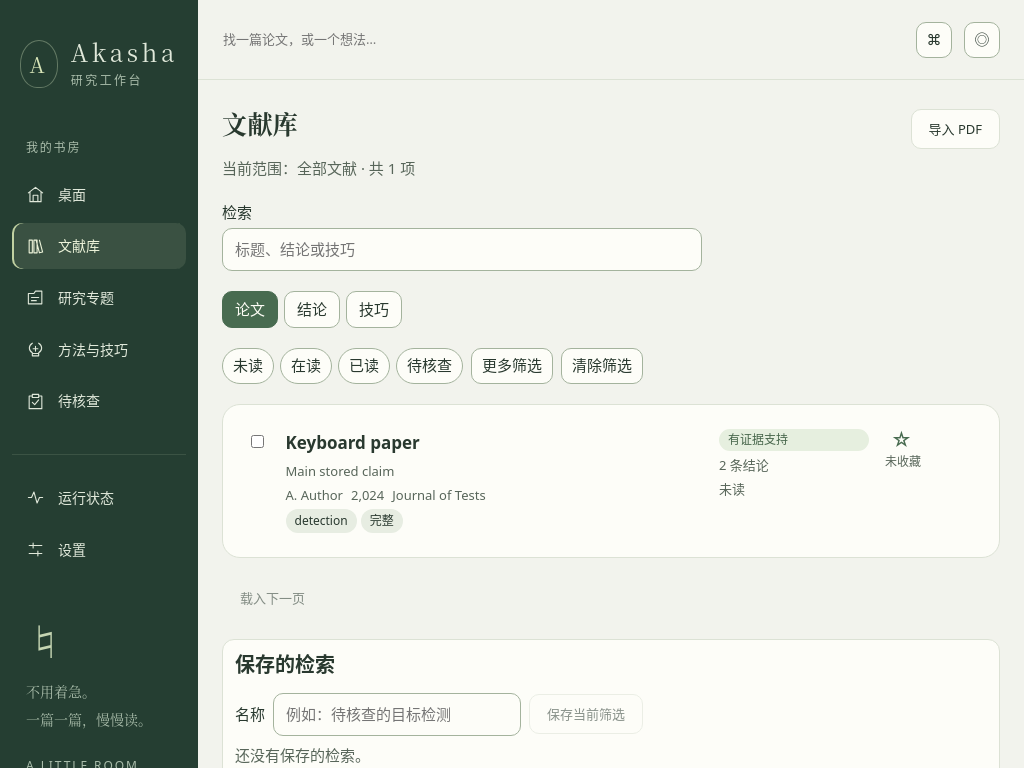
Test case: UX-054 responsive and keyboard readability › moves focus into a dialog and returns it on close
The batch tray only exists with a selection: select one row first.
What coordinates should you click on to do the following:
click the checkbox named "选择 Keyboard paper"
I would click on:
 (258, 441)
Its box is [251,434,264,448].
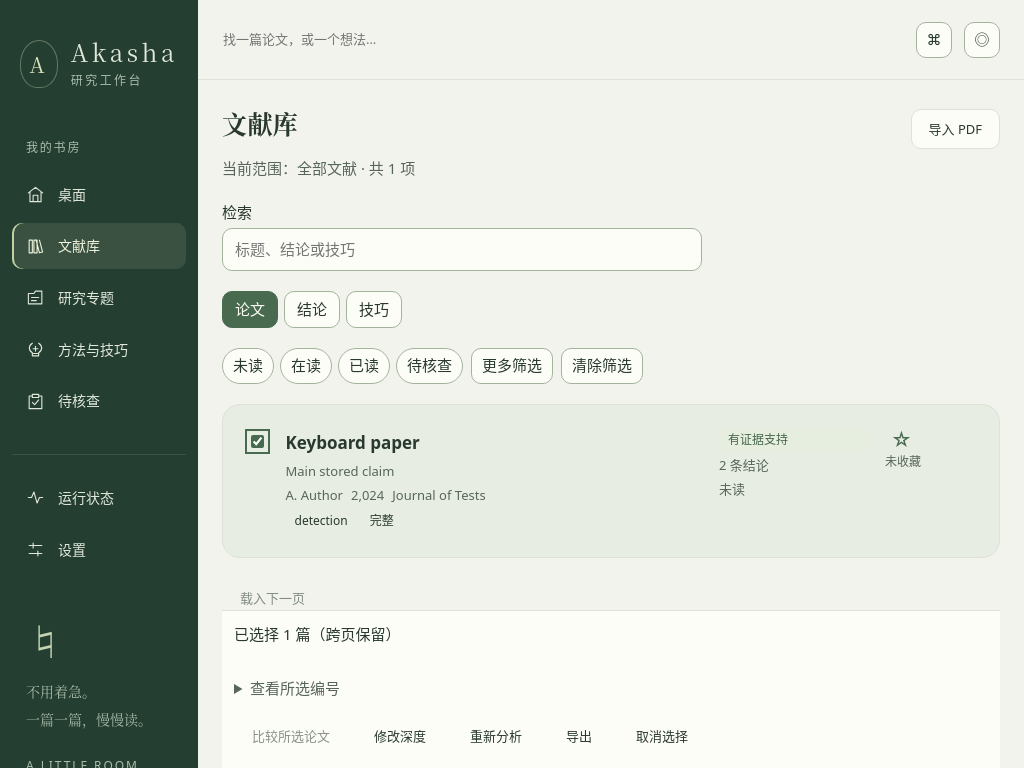
What coordinates should you click on to do the following:
click the button "修改深度"
I would click on:
 (400, 736)
Its box is [356,716,444,756].
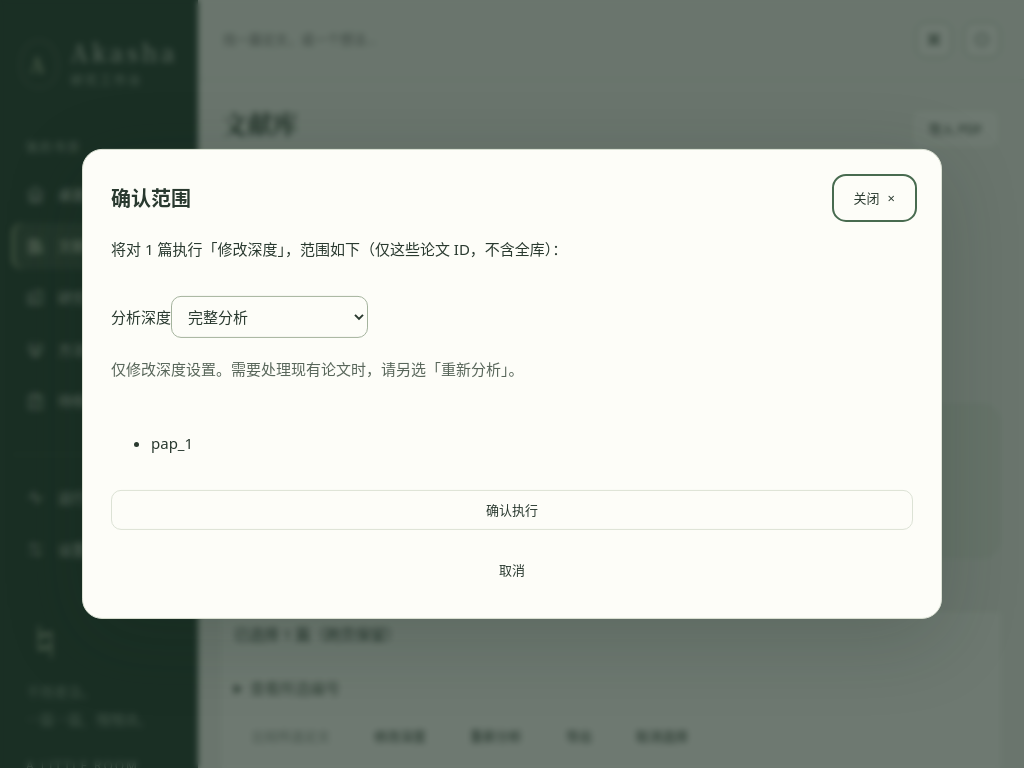
Now the dialog with test id "scope-preview" is shown, box [82,149,942,619]
What coordinates should you click on to do the following:
click the button "取消"
I would click on:
 (512, 570)
Its box is [111,550,913,590].
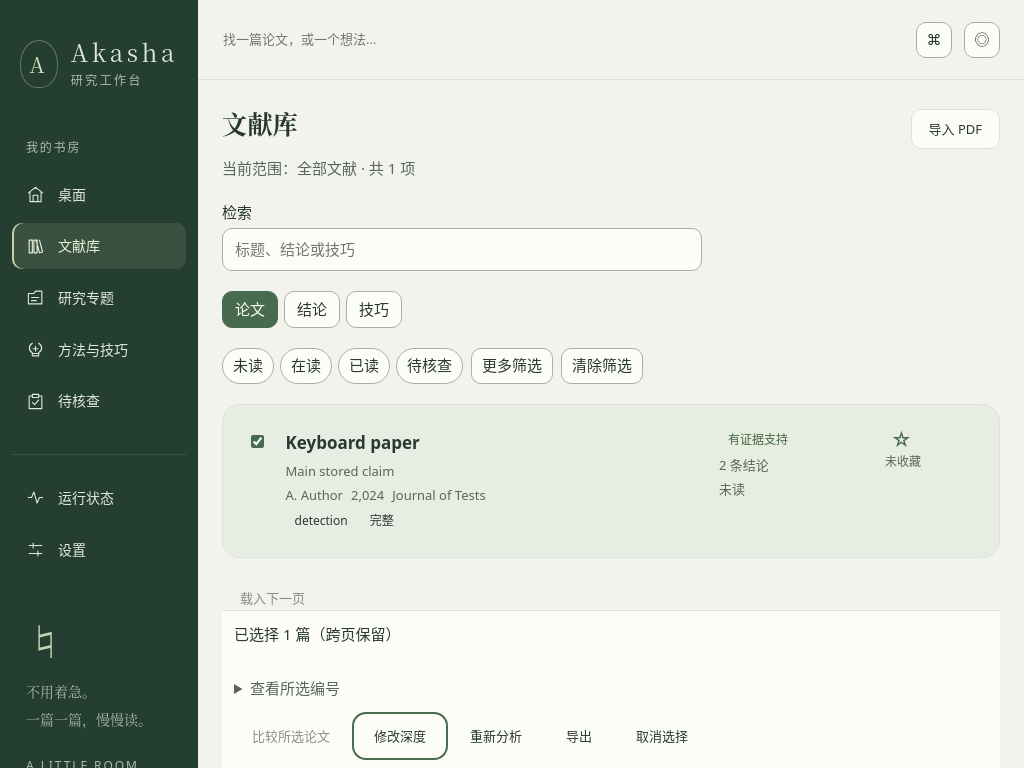
Now the dialog with test id "scope-preview" is gone
